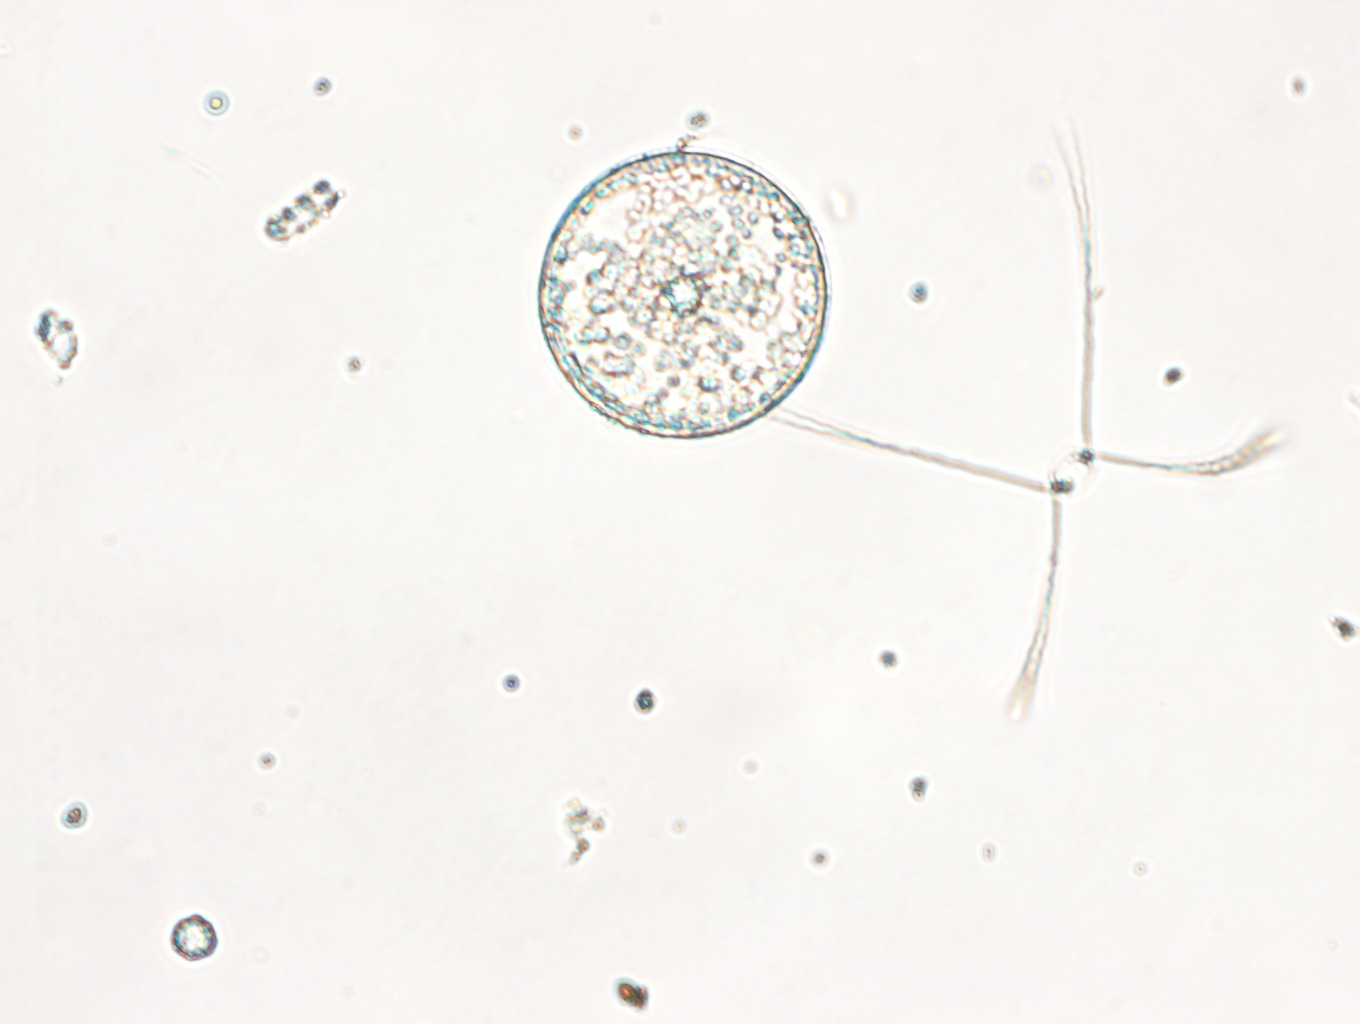chaetoceros: (830, 96, 1282, 709)
coscinodiscus: (527, 145, 836, 444)
